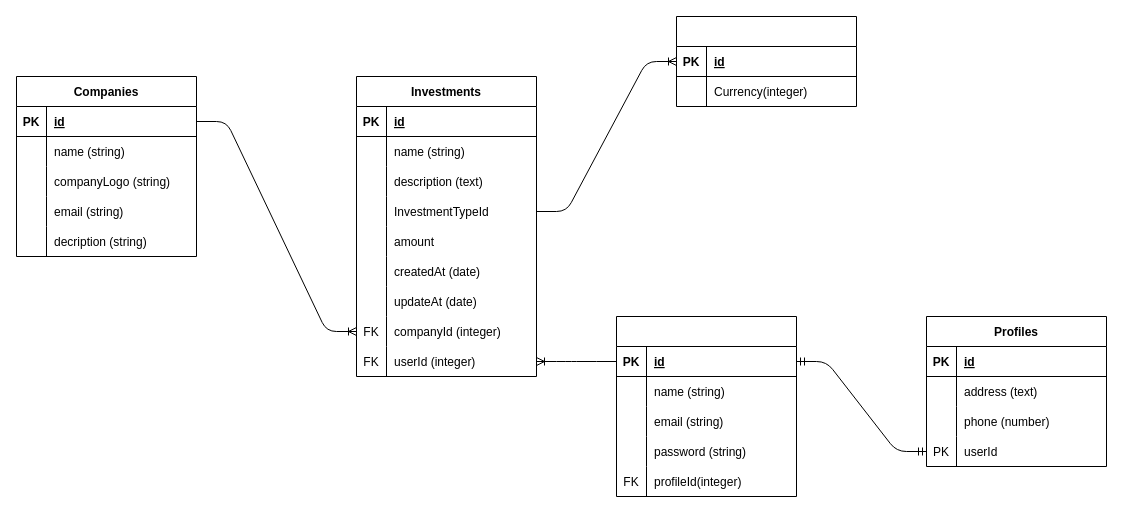
Image size: 1123x513. Some labels were removed from this diagram. The box of each missing label's shape, as (x1, y1, x2, y2) in pixels:
investmentType: (676, 16, 856, 106)
Users: (616, 316, 796, 496)
